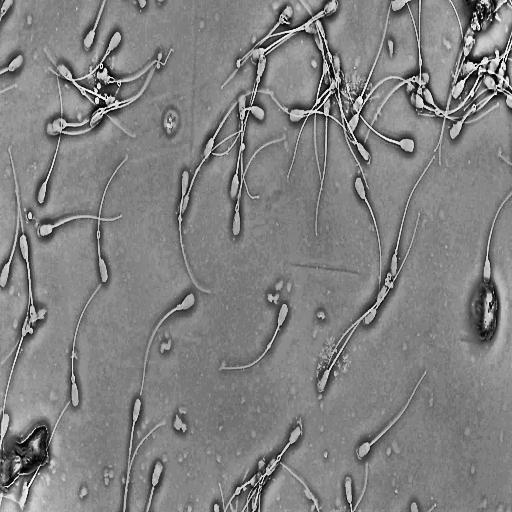dirt-particles: (0, 418, 52, 495), (467, 278, 500, 346), (464, 0, 497, 33), (173, 410, 188, 437), (163, 109, 177, 134), (384, 270, 396, 291), (279, 13, 291, 26), (314, 110, 317, 114)
distal-droplet: (266, 340, 272, 350), (96, 229, 101, 240), (178, 214, 183, 222), (80, 87, 85, 95), (277, 454, 281, 463), (419, 58, 422, 65), (116, 102, 118, 108)
loose-tail: (121, 417, 167, 512)
normal: (354, 366, 432, 464), (389, 152, 441, 286), (138, 288, 197, 403), (67, 270, 114, 412), (206, 53, 267, 162), (219, 4, 293, 93), (229, 135, 291, 241), (344, 72, 416, 162), (314, 299, 377, 397), (214, 298, 291, 376), (200, 85, 277, 163), (56, 64, 135, 137), (361, 73, 429, 151), (94, 154, 133, 288), (245, 422, 303, 512), (346, 72, 420, 136), (253, 0, 339, 54), (41, 29, 123, 85), (353, 0, 393, 113), (0, 231, 32, 370), (177, 166, 212, 293), (439, 36, 473, 165), (36, 58, 65, 209), (353, 176, 384, 317), (418, 57, 489, 117), (91, 66, 156, 123), (0, 142, 23, 291), (331, 81, 370, 161), (481, 190, 512, 288), (422, 87, 499, 124), (35, 211, 128, 241), (120, 396, 144, 512), (314, 51, 333, 192), (451, 56, 512, 99), (289, 107, 357, 144), (450, 93, 498, 139), (316, 95, 331, 236), (47, 114, 105, 136), (416, 0, 423, 113)
proximal-droplet: (175, 302, 183, 312), (70, 373, 76, 385), (235, 200, 240, 213), (256, 74, 261, 85), (107, 47, 111, 55), (395, 249, 398, 256), (413, 76, 416, 82)
